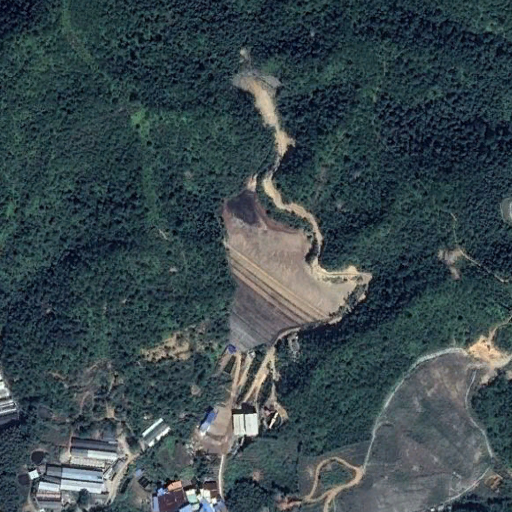tp: (214, 188, 373, 349)
